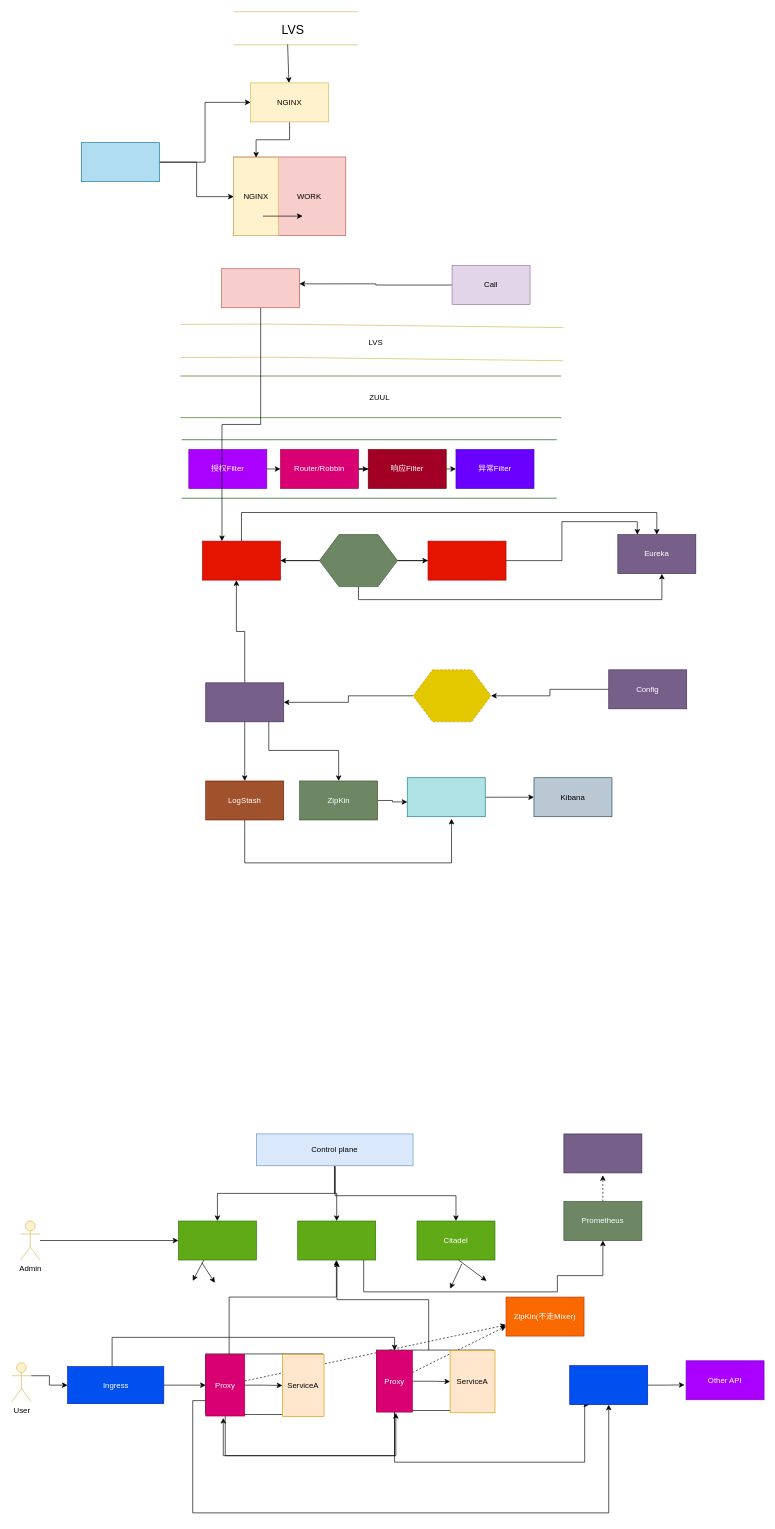
Some shapes in this 775 by 1529 pixel diagram are drawn without their labels. Each missing label, with the centre of its shape:
"ElasticSearch" goes at point 446,797.
"Engress" goes at point 608,1385.
"Grafana" goes at point 602,1153.
"hytrix" goes at point 260,288.
"Mixer" goes at point 336,1240.
"Pilot" goes at point 217,1240.
"RabbitMQ" goes at point 244,702.
"Robbin/Feign" goes at point 358,560.
"SpringCloudBus" goes at point 451,695.
"WorkA" goes at point 241,560.
"WorkB" goes at point 466,560.
"Zabbix" goes at point 120,162.
